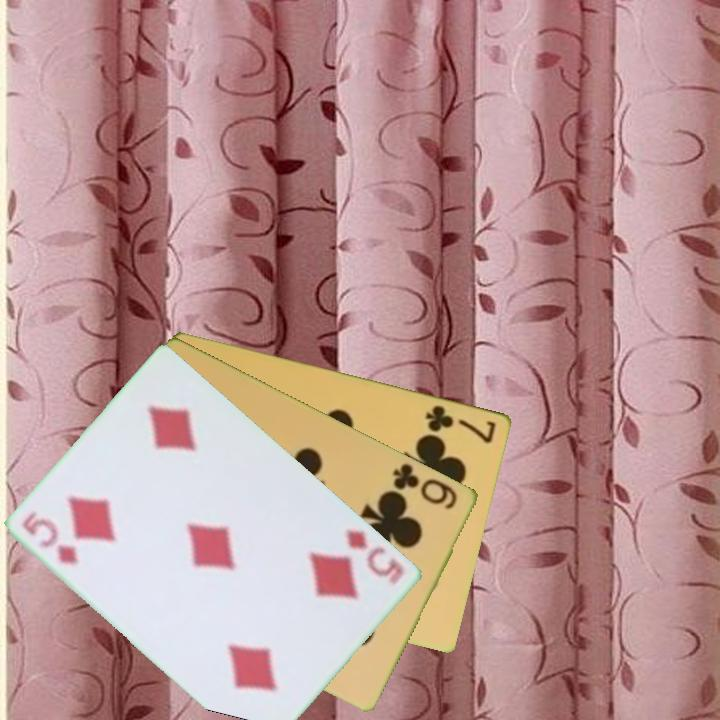5d: (343, 525, 408, 587), (19, 508, 83, 567)
6c: (389, 459, 461, 513)
7c: (422, 401, 499, 446)
